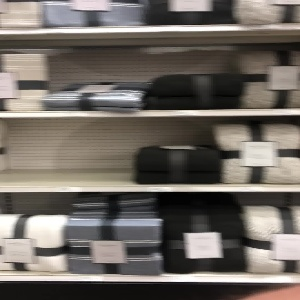void: (6, 116, 134, 187)
